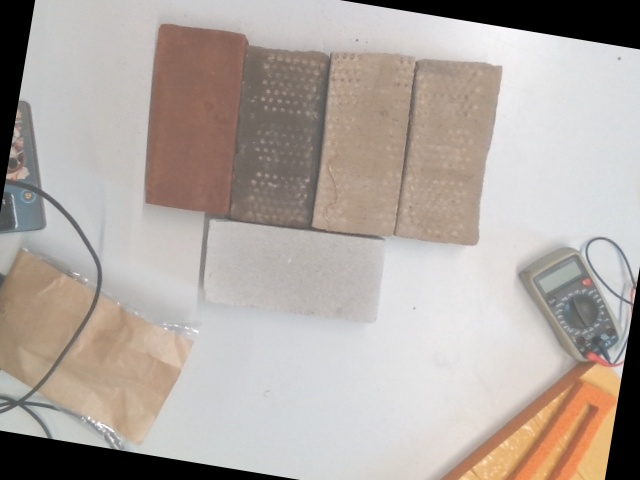brick: (396, 58, 500, 247), (201, 220, 385, 322), (141, 27, 242, 211), (312, 51, 410, 237), (235, 45, 322, 226)
